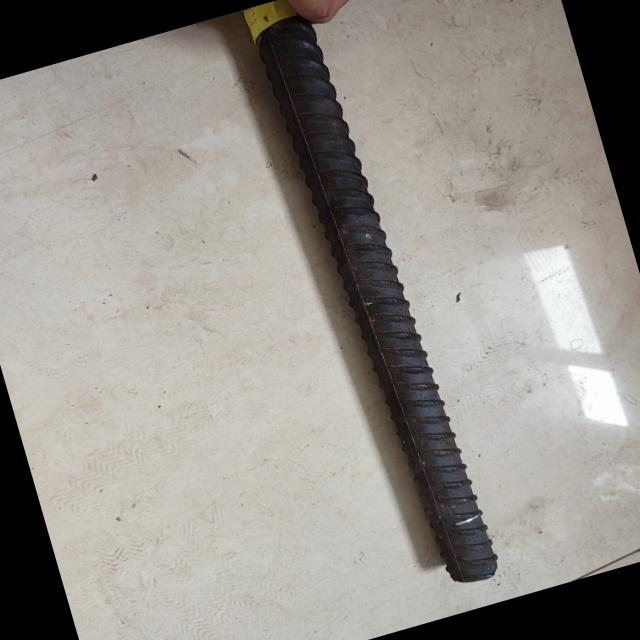ribbed bar: (238, 0, 512, 607)
